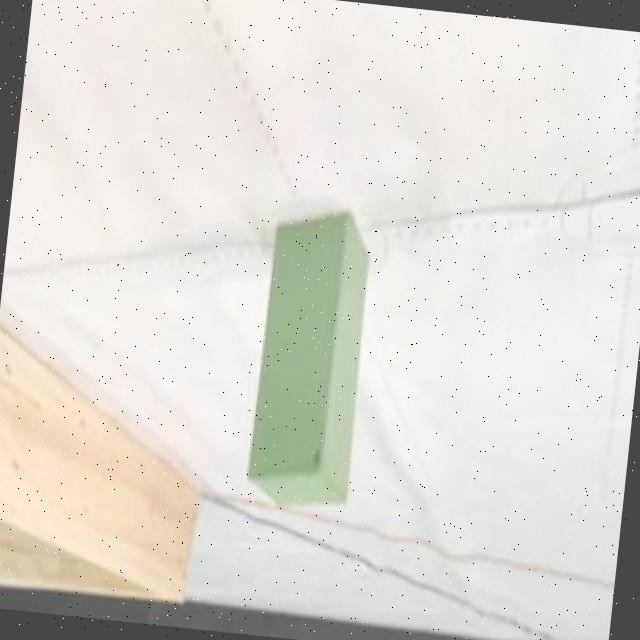greenbox: (240, 201, 376, 518)
